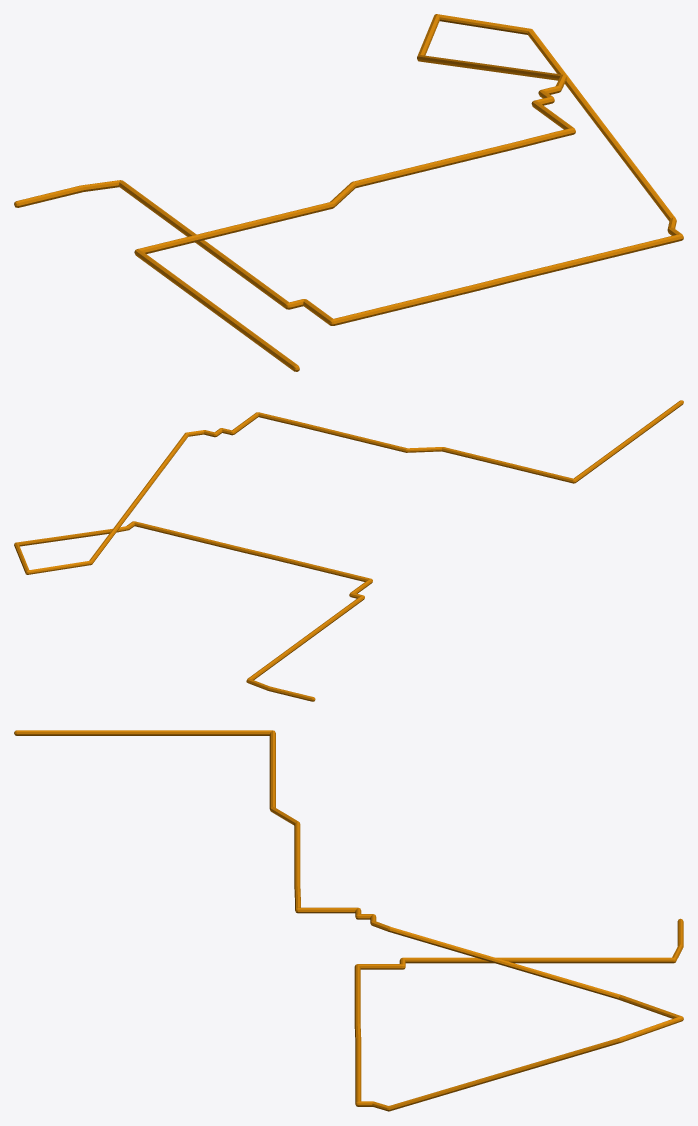
3 renders of one model, top to bottom at view 1: azimuth 30°, elevation 25°; view 2: azimuth 150°, elevation 25°; view 3: azimuth 270°, elevation 25°, orthographic. The views are drawn at different scales.
Bounding box in the file's own units: 1901 × 520 × 2226.
